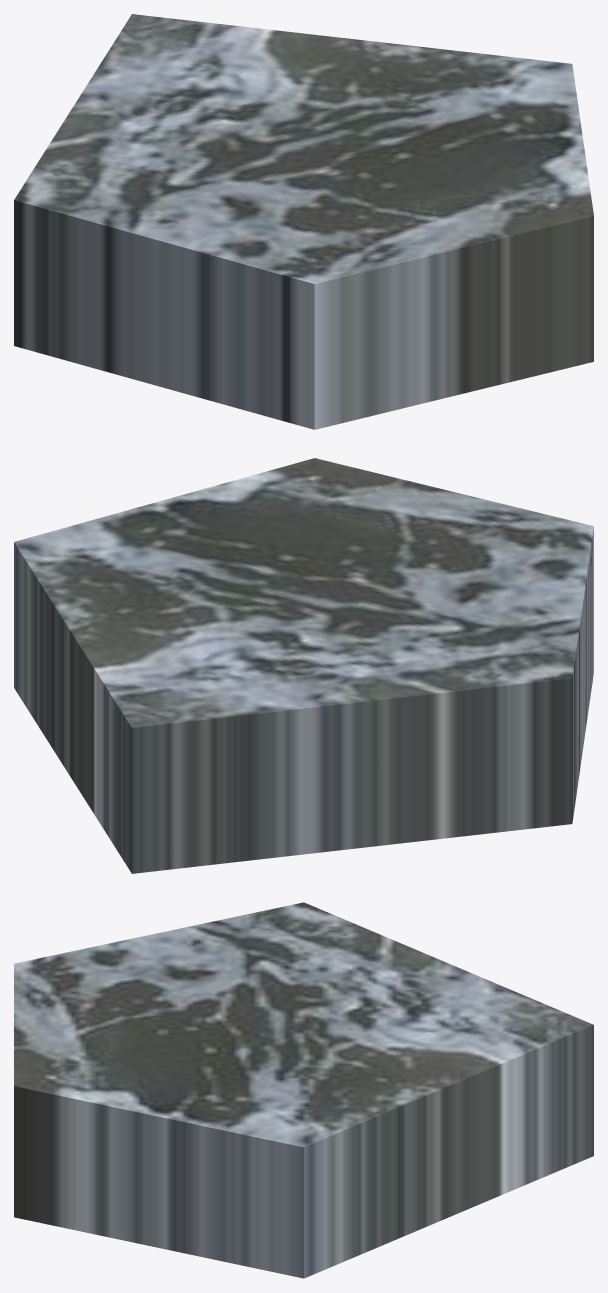
Rendered from InnerPlane.FBX.
The picture shows the model from 3 angles, top to bottom: view 1: azimuth 30°, elevation 25°; view 2: azimuth 150°, elevation 25°; view 3: azimuth 270°, elevation 25°; orthographic projection. The views are drawn at different scales.
Visible parts, largest first — view 1: PlanePentagonCollider; view 2: PlanePentagonCollider; view 3: PlanePentagonCollider.
Boxes of the visible parts, box(x1,y1,x2,y2) form: PlanePentagonCollider: box(14, 14, 593, 429); PlanePentagonCollider: box(14, 458, 593, 873); PlanePentagonCollider: box(14, 902, 593, 1278).
Size of the model in its own units: 40.07 by 10 by 40.07.
1 material, 1 textured.
